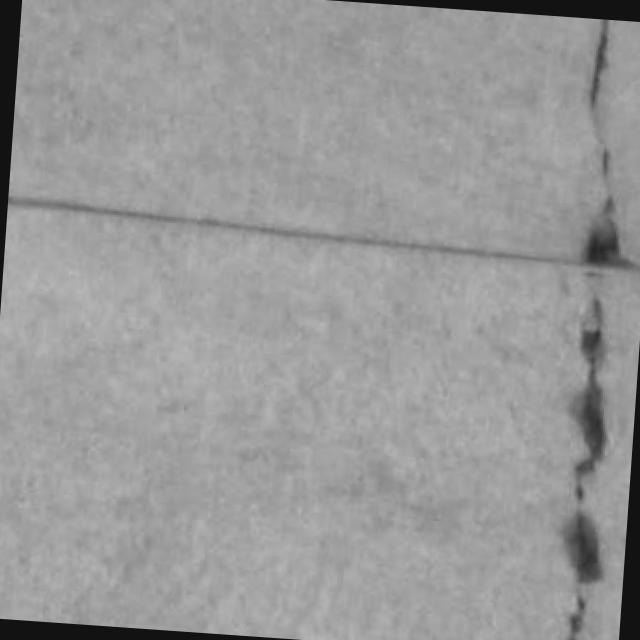crack: (8, 196, 587, 267), (562, 298, 606, 639), (581, 19, 628, 268), (589, 19, 608, 110)
